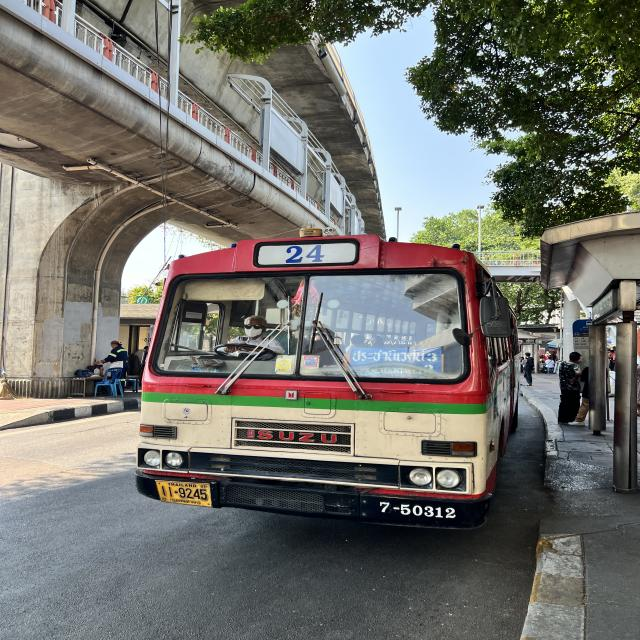BMTA-bus: (134, 232, 516, 532)
Bus-Line-Number: (254, 239, 361, 270)
Destination-Sign-Normal: (350, 346, 443, 374)
